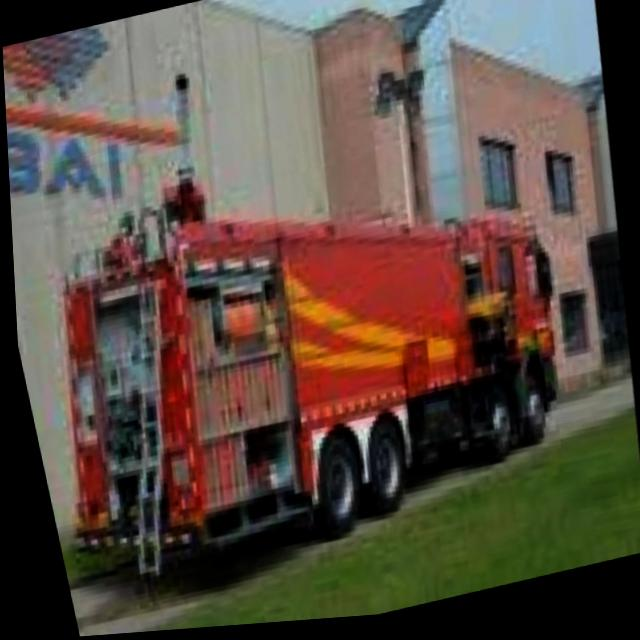emergency: (9, 142, 594, 601)
